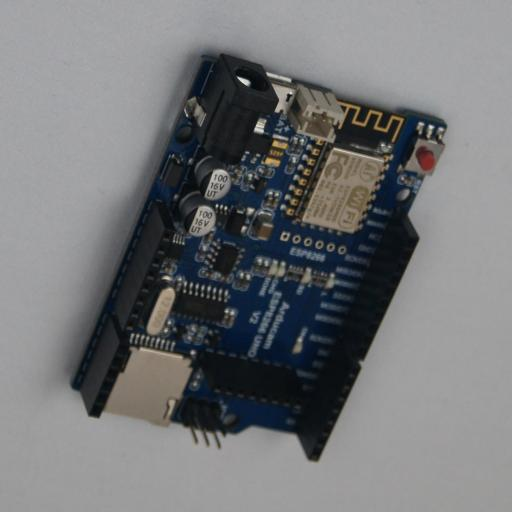Arduino Uno Camera Shield: (67, 50, 447, 461)
